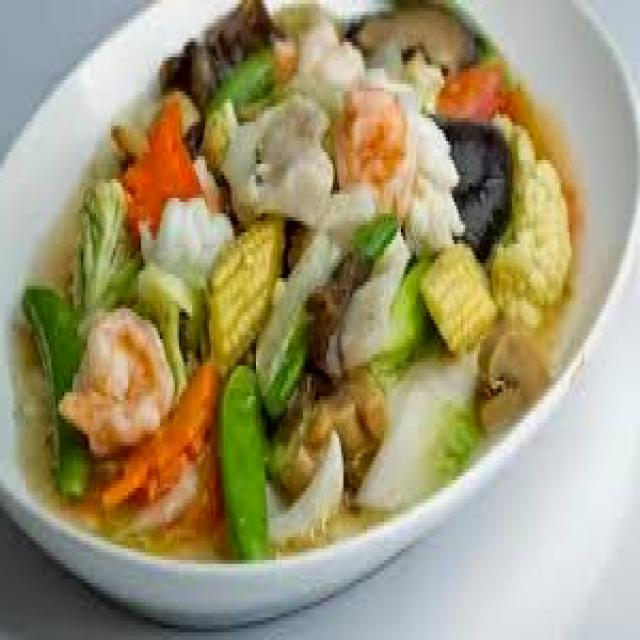capcay: (17, 0, 574, 564)
